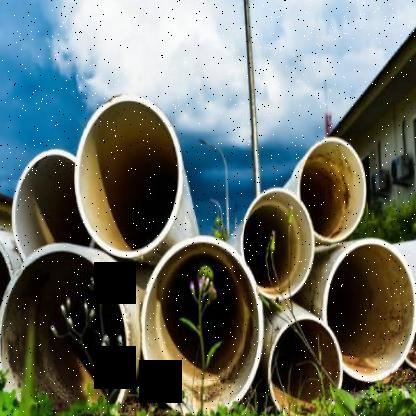pipe: (140, 235, 262, 416), (0, 243, 127, 416), (74, 93, 183, 258), (322, 238, 416, 381), (12, 150, 96, 262), (241, 188, 314, 300), (267, 314, 343, 416), (297, 138, 366, 242), (0, 224, 15, 376)
